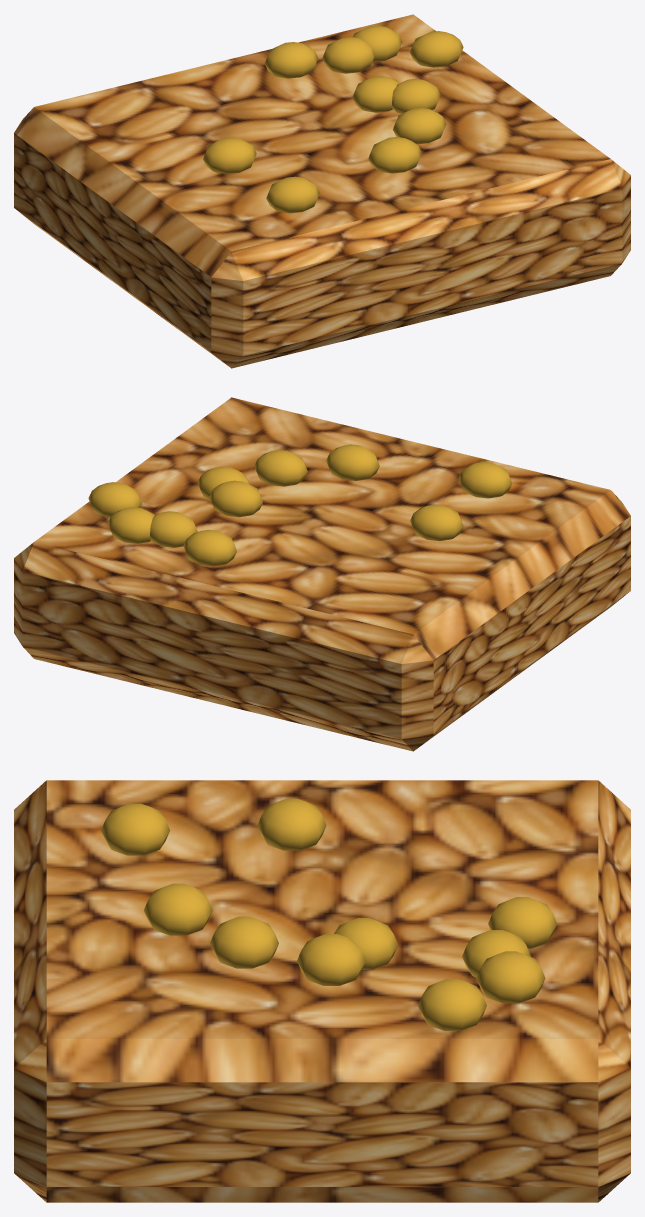
Rendered from CoopCozy_Fill6.fbx.
The picture shows the model from 3 angles, top to bottom: view 1: azimuth 30°, elevation 25°; view 2: azimuth 150°, elevation 25°; view 3: azimuth 270°, elevation 25°; orthographic projection. The views are drawn at different scales.
Visible parts, largest first — view 1: CoopCozy_Fill6; view 2: CoopCozy_Fill6; view 3: CoopCozy_Fill6.
Boxes of the visible parts, box(x1,y1,x2,y2) form: CoopCozy_Fill6: box(14, 14, 630, 368); CoopCozy_Fill6: box(14, 397, 630, 751); CoopCozy_Fill6: box(14, 780, 630, 1202).
Bounding box in the file's own units: 0.45 × 0.146 × 0.41.
